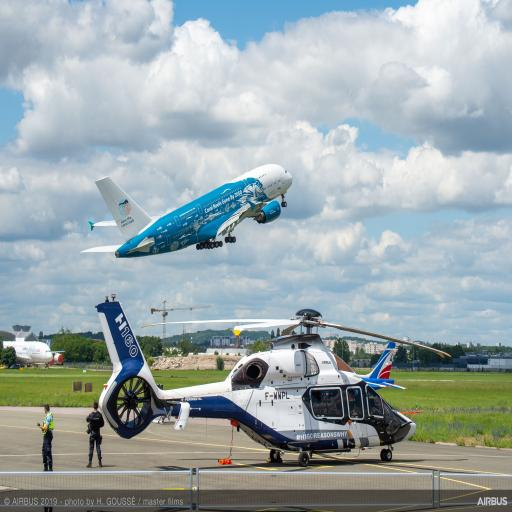helicopter: (86, 278, 460, 478)
